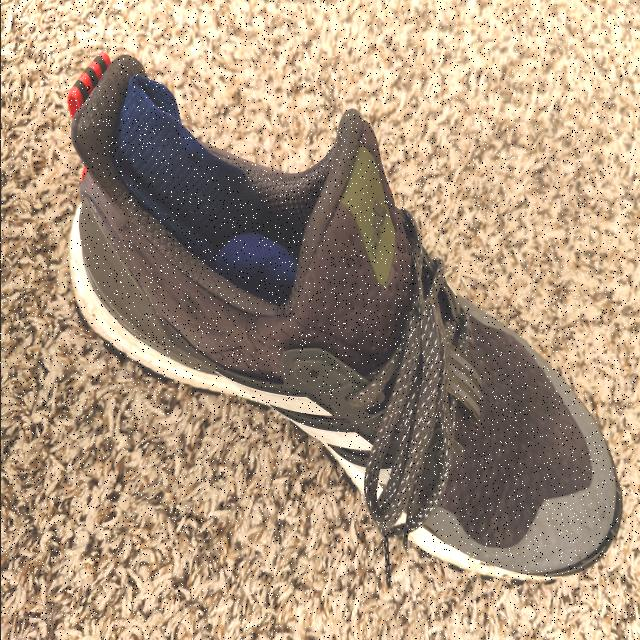black shoes: (71, 60, 552, 556)
